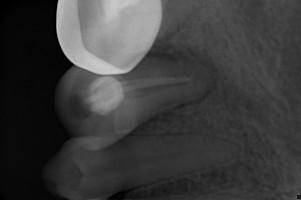Furcation Involvement: (157, 48, 218, 107)
